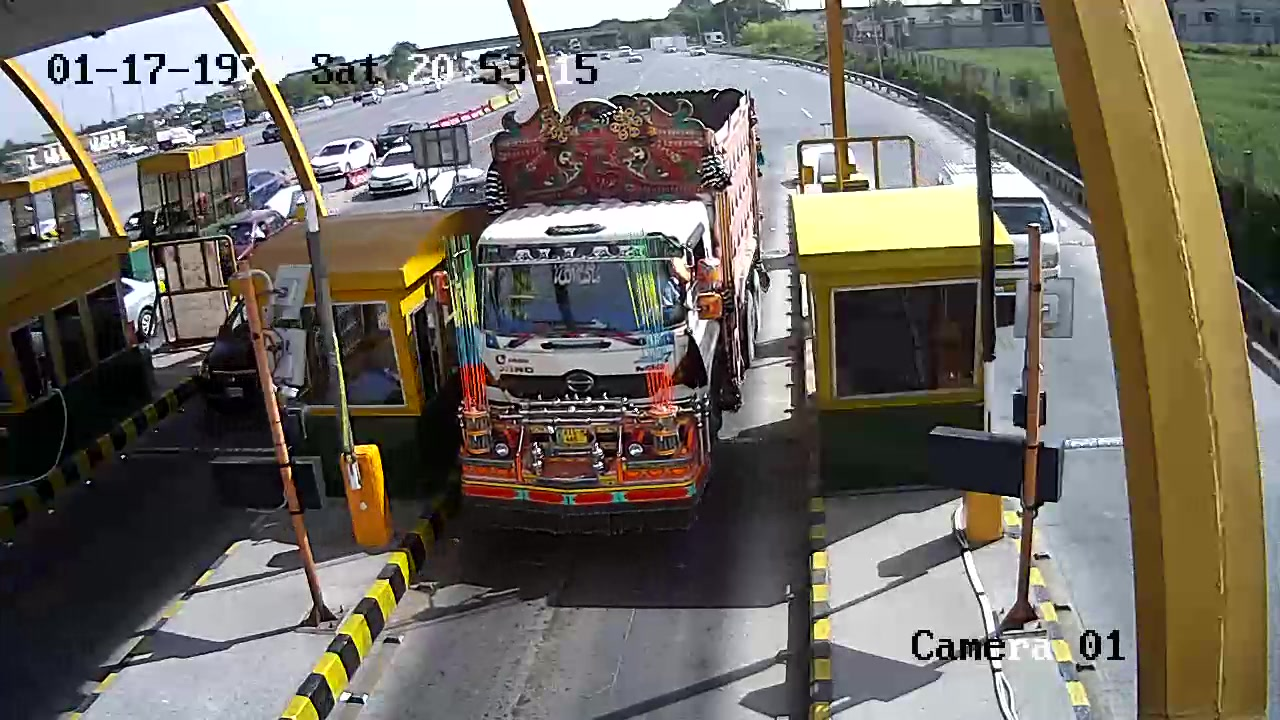F5: (450, 81, 763, 518)
